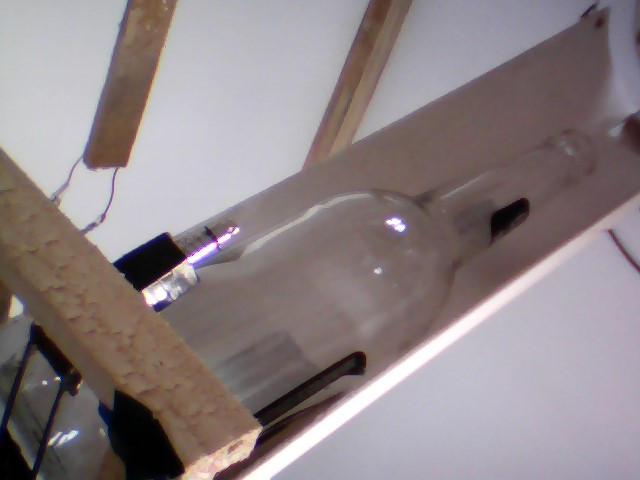vidrio: (205, 118, 602, 443)
